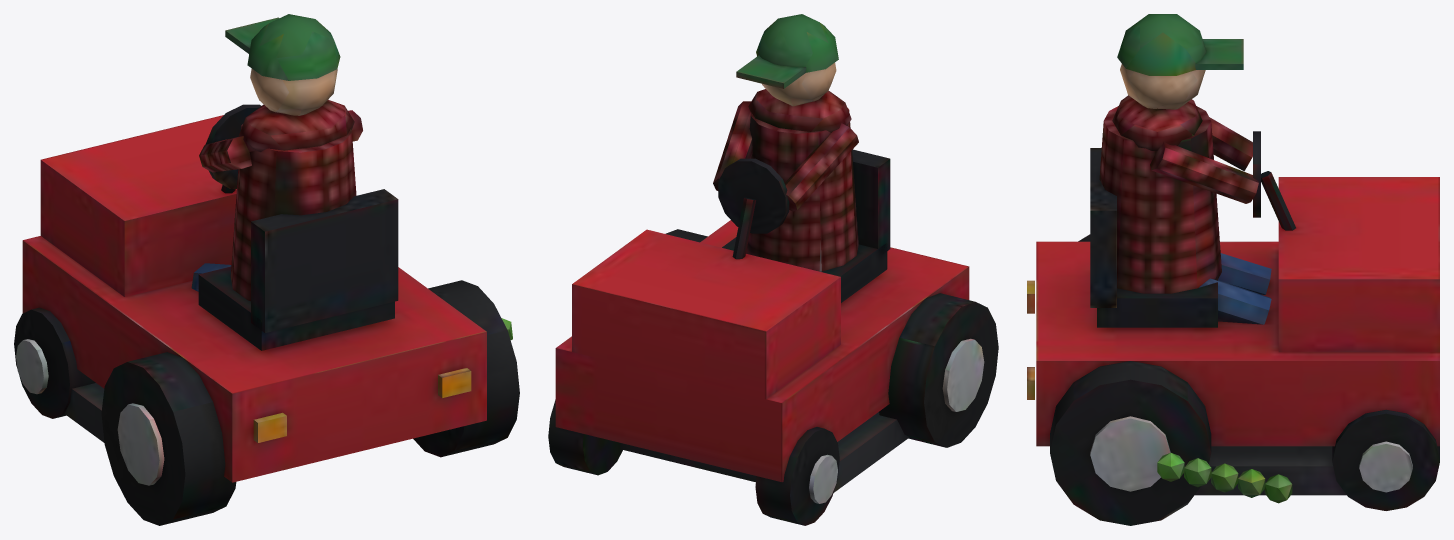
The model's file is cortacesped.glb.
The picture shows the model from 3 angles, left to right: view 1: azimuth 30°, elevation 25°; view 2: azimuth 150°, elevation 25°; view 3: azimuth 270°, elevation 25°; orthographic projection. The views are drawn at different scales.
Parts seen in each view (by area): view 1: cortacesped; view 2: cortacesped; view 3: cortacesped.
Part boxes in pixels (x1,y1,x2,y2): cortacesped: (14, 14, 519, 525); cortacesped: (548, 14, 998, 525); cortacesped: (1027, 14, 1439, 525).
Size of the model in its own units: 1.62 by 1.77 by 1.53.
1 material, 1 textured.
